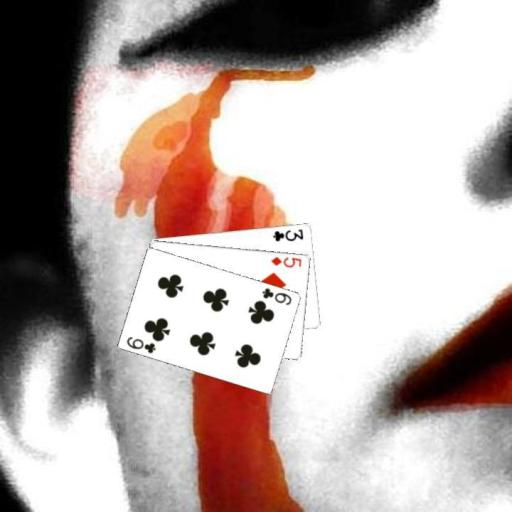3C: (270, 226, 305, 243)
5D: (268, 253, 303, 269)
6C: (124, 333, 158, 355), (260, 285, 293, 307)
